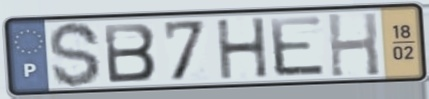7: (162, 18, 209, 84)
B: (101, 21, 159, 85)
E: (266, 14, 329, 79)
H: (325, 10, 383, 79), (214, 15, 272, 82)
S: (46, 20, 103, 90)
